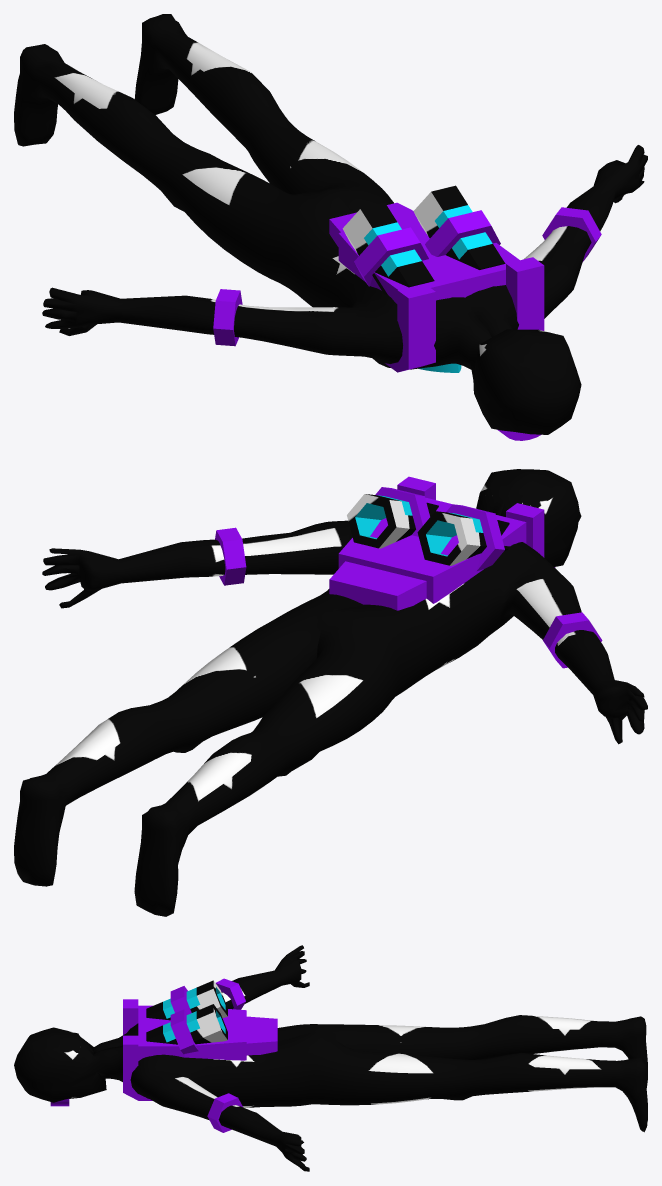
Rendered from player.obj.
The picture shows the model from 3 angles, top to bottom: view 1: azimuth 30°, elevation 25°; view 2: azimuth 150°, elevation 25°; view 3: azimuth 270°, elevation 25°; orthographic projection. The views are drawn at different scales.
Visible parts, largest first — view 1: mergedBlocks; view 2: mergedBlocks; view 3: mergedBlocks.
Boxes of the visible parts, x1,y1,x2,y2 form: mergedBlocks: [14, 14, 647, 440]; mergedBlocks: [14, 469, 647, 916]; mergedBlocks: [14, 945, 647, 1171].
Bounding box in the file's own units: 1.45 × 0.377 × 1.93.
3 materials, 1 textured.
